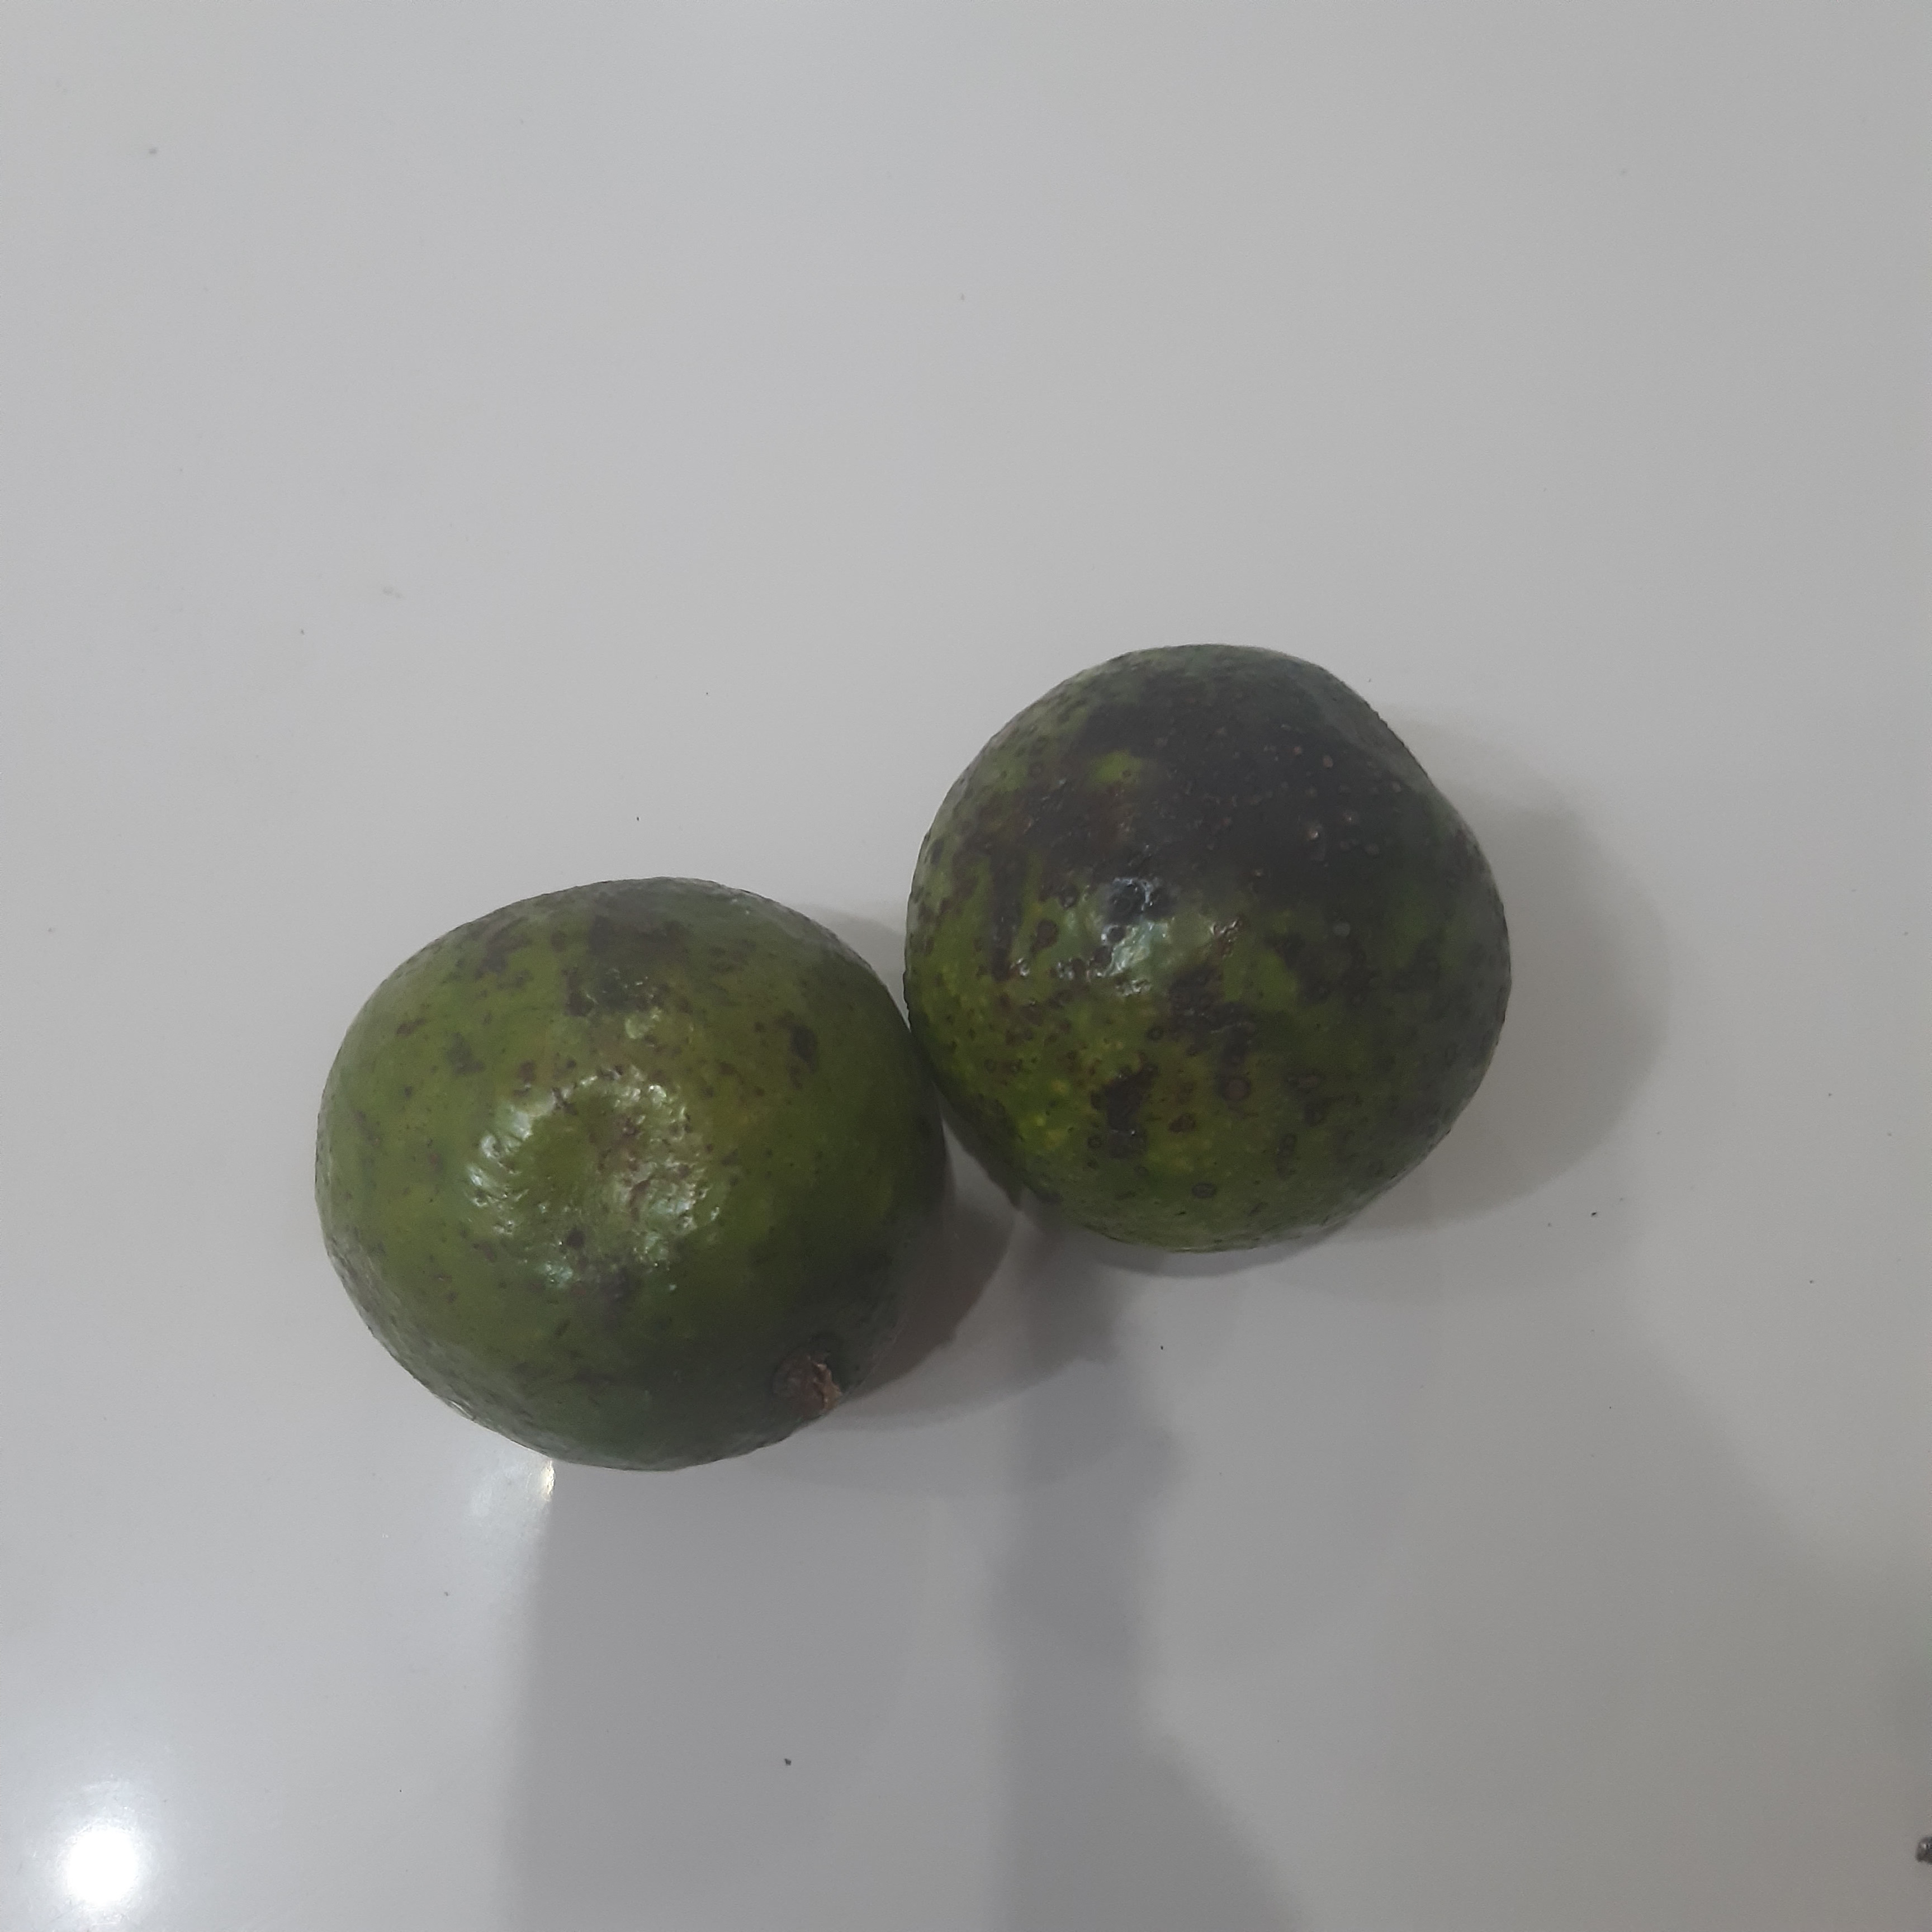Bo: (311, 872, 957, 1488), (895, 644, 1516, 1258)
